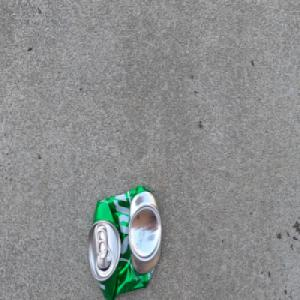SodaCan: (87, 184, 163, 300)
